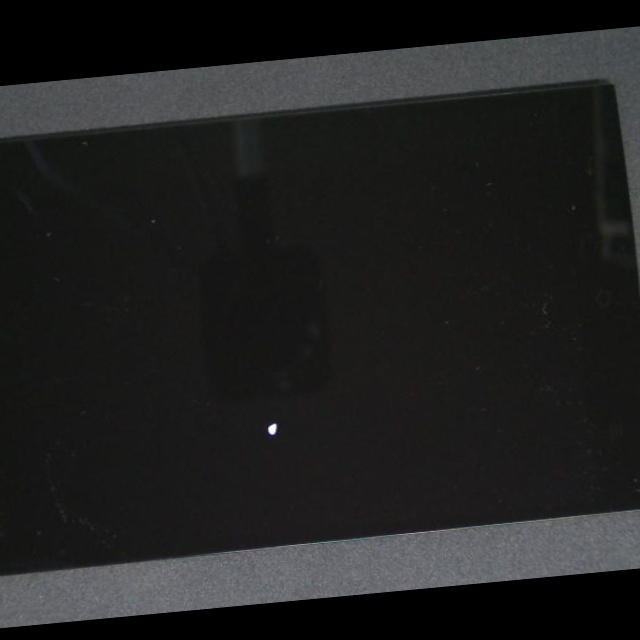stain: (83, 189, 452, 617)
